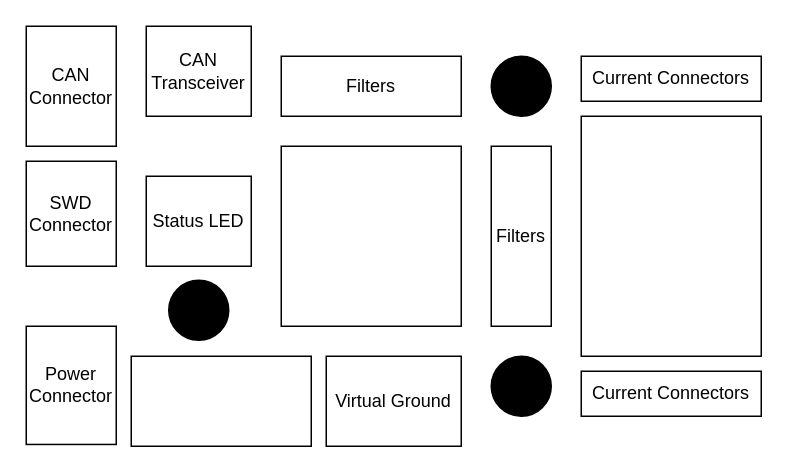
The diagram is 788 pixels wide and 473 high, and some of its shapes have lost their labels. The centre of each missing label's shape, as x and y in pixels:
"Amplifiers" goes at pixel 670 235.
"MCU" goes at pixel 370 235.
"Power Regulation" goes at pixel 220 400.
